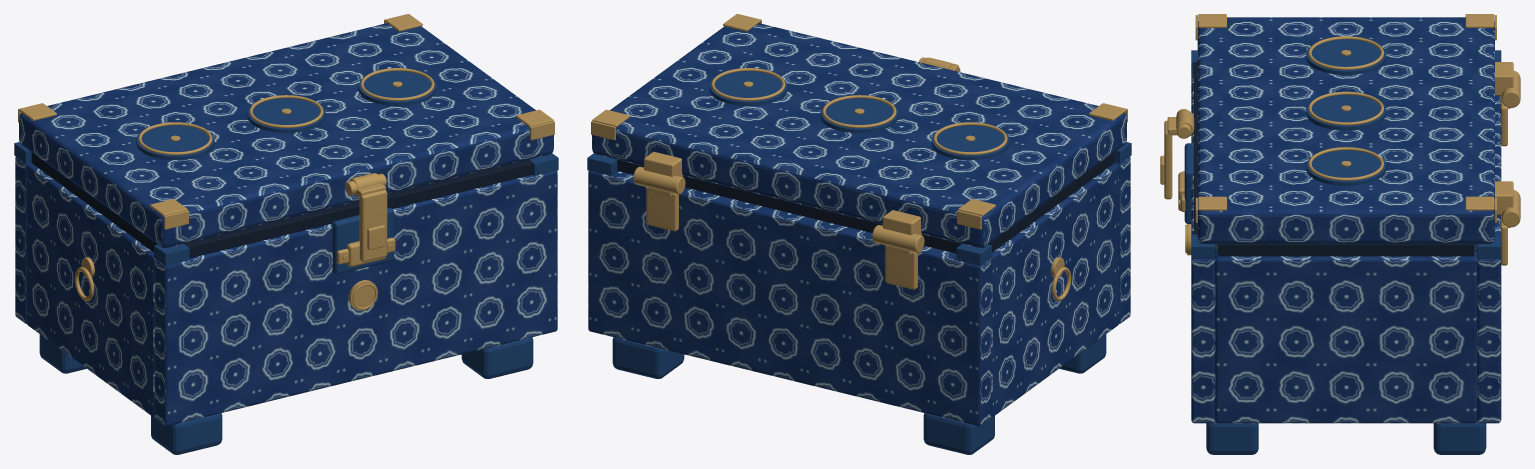
Rendered from nigeria.glb.
The picture shows the model from 3 angles, left to right: view 1: azimuth 30°, elevation 25°; view 2: azimuth 150°, elevation 25°; view 3: azimuth 270°, elevation 25°; orthographic projection. The views are drawn at different scales.
Visible parts, largest first — view 1: Lid / polished slab, Indigo / front, Indigo / side, Seam / long, Indigo / low foot, Indigo / low foot.002, Indigo / rear, Resist / raised indigo disc 2, Resist / raised indigo disc 0, Resist / raised indigo disc 1, Latch / lifting hasp, Indigo / clasp seat (+7 smaller); view 2: Indigo / rear, Lid / polished slab, Indigo / side, Seam / long.001, Indigo / low foot.001, Indigo / low foot.003, Indigo / front, Resist / raised indigo disc 2, Resist / raised indigo disc 0, Resist / raised indigo disc 1, Seam / side, Hinge / fixed mount.001 (+10 smaller); view 3: Lid / polished slab, Indigo / side.001, Indigo / rear, Indigo / front, Seam / side.001, Resist / raised indigo disc 2, Resist / raised indigo disc 1, Resist / raised indigo disc 0, Indigo / low foot.003, Indigo / low foot.002, Indigo / clasp seat, Resist / brass ring 2 (+14 smaller).
Part boxes in pixels (box(x1,y1,x2,y2)): Lid / polished slab: box(19, 23, 553, 247); Indigo / front: box(155, 170, 557, 426); Indigo / side: box(26, 163, 155, 417); Seam / long: box(184, 159, 533, 257); Indigo / low foot: box(151, 413, 222, 454); Indigo / low foot.002: box(461, 337, 533, 378); Indigo / rear: box(15, 157, 31, 323); Resist / raised indigo disc 2: box(358, 71, 436, 105); Resist / raised indigo disc 0: box(136, 125, 214, 159); Resist / raised indigo disc 1: box(247, 98, 325, 132); Latch / lifting hasp: box(359, 190, 387, 261); Indigo / clasp seat: box(332, 207, 393, 274); Indigo / rear: box(588, 170, 990, 426); Lid / polished slab: box(592, 23, 1126, 247); Indigo / side: box(990, 163, 1119, 417); Seam / long.001: box(617, 160, 961, 253); Indigo / low foot.001: box(923, 413, 994, 454); Indigo / low foot.003: box(612, 337, 684, 378); Indigo / front: box(1114, 157, 1130, 323); Resist / raised indigo disc 2: box(709, 71, 787, 105); Resist / raised indigo disc 0: box(931, 125, 1009, 159); Resist / raised indigo disc 1: box(820, 98, 898, 132); Seam / side: box(988, 153, 1114, 252); Hinge / fixed mount.001: box(646, 187, 678, 231); Lid / polished slab: box(1197, 17, 1494, 243); Indigo / side.001: box(1215, 251, 1477, 423); Indigo / rear: box(1477, 95, 1501, 423); Indigo / front: box(1191, 74, 1214, 423); Seam / side.001: box(1218, 244, 1474, 256); Resist / raised indigo disc 2: box(1306, 150, 1386, 185); Resist / raised indigo disc 1: box(1306, 95, 1386, 130); Resist / raised indigo disc 0: box(1306, 39, 1386, 74); Indigo / low foot.003: box(1433, 421, 1486, 454); Indigo / low foot.002: box(1206, 421, 1258, 454); Indigo / clasp seat: box(1184, 143, 1193, 223); Resist / brass ring 2: box(1308, 147, 1384, 180).
Bounding box in the file's own units: 3.79 × 2.29 × 2.88.
5 materials, 1 textured.
